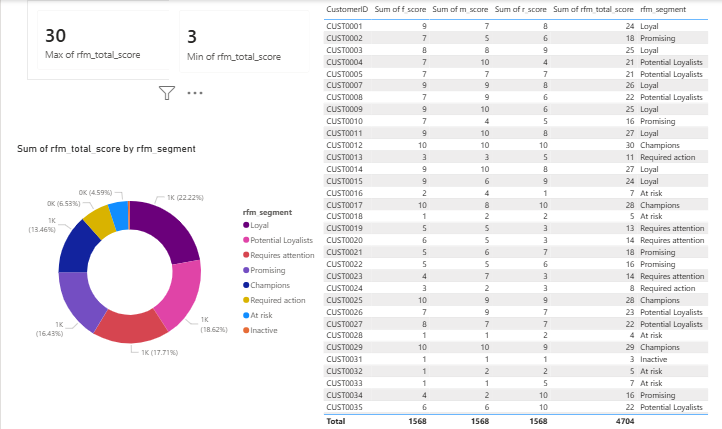

What the dashboard file says about the page in this screenshot:
{"tool":"powerbi","page":{"name":"Page 1","canvas":[1280,720],"ordinal":0},"visuals":[{"type":"cardVisual","fields":{"Data":["Max(rfm_segments_final.rfm_total_score)"]},"box":[43.7,0,304,134.4],"z":1},{"type":"cardVisual","fields":{"Data":["Min(rfm_segments_final.rfm_total_score)"]},"box":[282.2,0,253.6,139.4],"z":2},{"type":"donutChart","fields":{"Category":["rfm_segments_final.rfm_segment"],"Y":["Sum(rfm_segments_final.rfm_total_score)"]},"box":[21.8,238.5,519.1,418.3],"z":3},{"type":"tableEx","fields":{"Values":["rfm_segments_final.CustomerID","Sum(rfm_segments_final.f_score)","Sum(rfm_segments_final.m_score)","Sum(rfm_segments_final.r_score)","Sum(rfm_segments_final.rfm_total_score)","rfm_segments_final.rfm_segment"]},"box":[535.9,0,715.6,720.6],"z":4}]}

Visuals, with their boxes on the page's 1280x720 design canvas (x1, y1, x2, y2). These are canvas units, not pixel positions in the 722x429 screenshot, which may show the page scaled, cropped or inside an application window:
cardVisual - Max(rfm_segments_final.rfm_total_score): (44, 0, 348, 134)
cardVisual - Min(rfm_segments_final.rfm_total_score): (282, 0, 536, 139)
donutChart - rfm_segments_final.rfm_segment x Sum(rfm_segments_final.rfm_total_score): (22, 238, 541, 657)
tableEx - rfm_segments_final.CustomerID x Sum(rfm_segments_final.f_score): (536, 0, 1252, 721)
